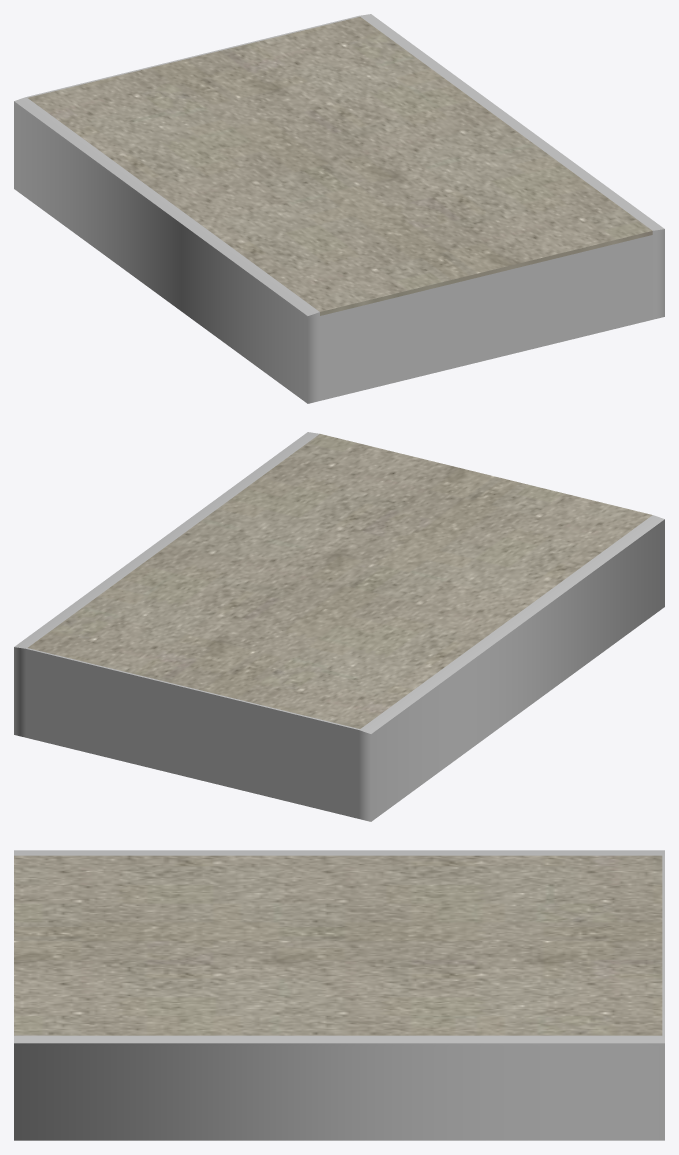
The model's file is road_02a.fbx.
3 renders of one model, top to bottom at view 1: azimuth 30°, elevation 25°; view 2: azimuth 150°, elevation 25°; view 3: azimuth 270°, elevation 25°, orthographic. The views are drawn at different scales.
Visible parts, largest first — view 1: road_02a; view 2: road_02a; view 3: road_02a.
Part boxes in pixels (<box>): road_02a: <box>14,14,664,403</box>; road_02a: <box>14,432,664,821</box>; road_02a: <box>14,850,664,1140</box>.
Bounding box in the file's own units: 8.42 × 2 × 12.
